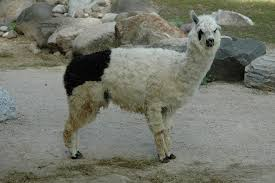alpaca: (63, 9, 223, 163)
